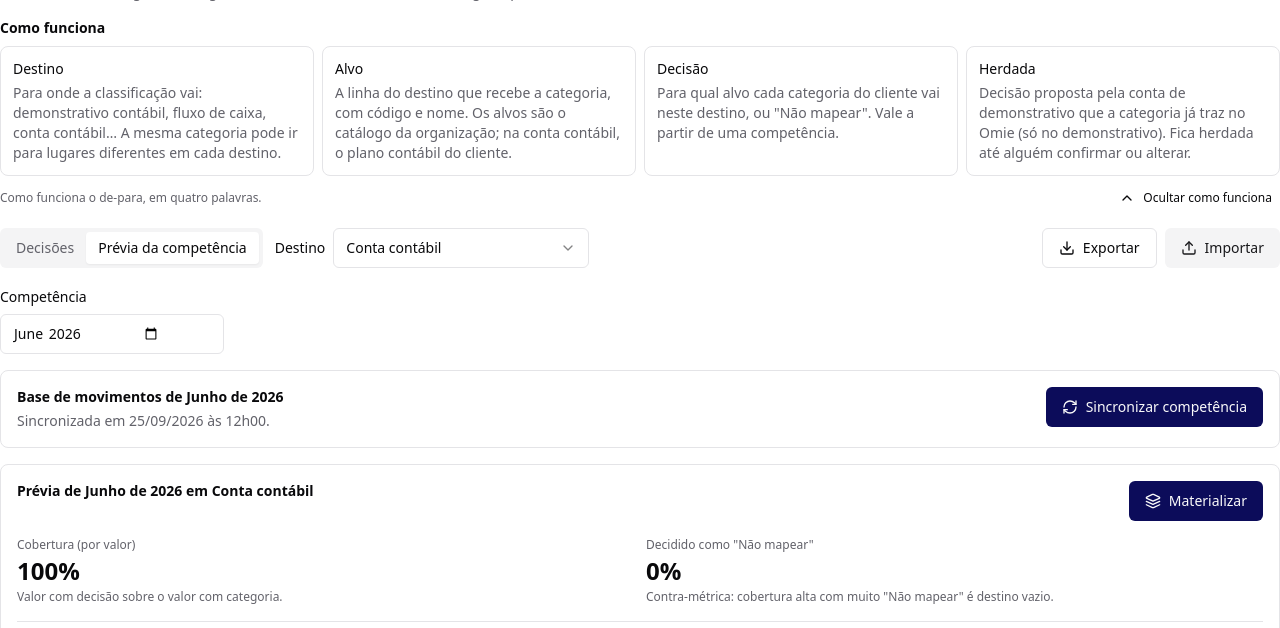
Test: avisos por perfil — só manda agir quem tem manage_client_accounting_chart › prévia: contas de origem pendentes › recusa 409 para admin: com o botão e o verbo
This screenshot has width=1280, height=628.
Step 1. Click the button "Materializar" → (1196, 501), box [1129, 481, 1263, 521]
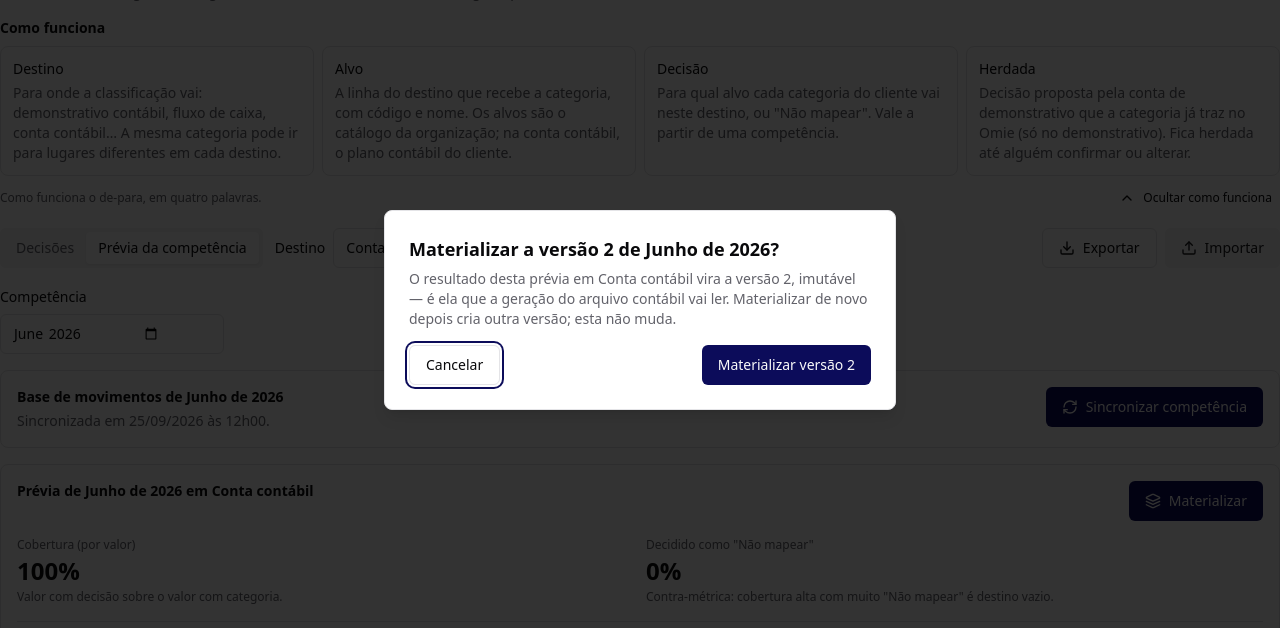
Step 2. Click the button "Materializar versão 2" → (786, 365), box [702, 345, 871, 385]
(page scrolled)
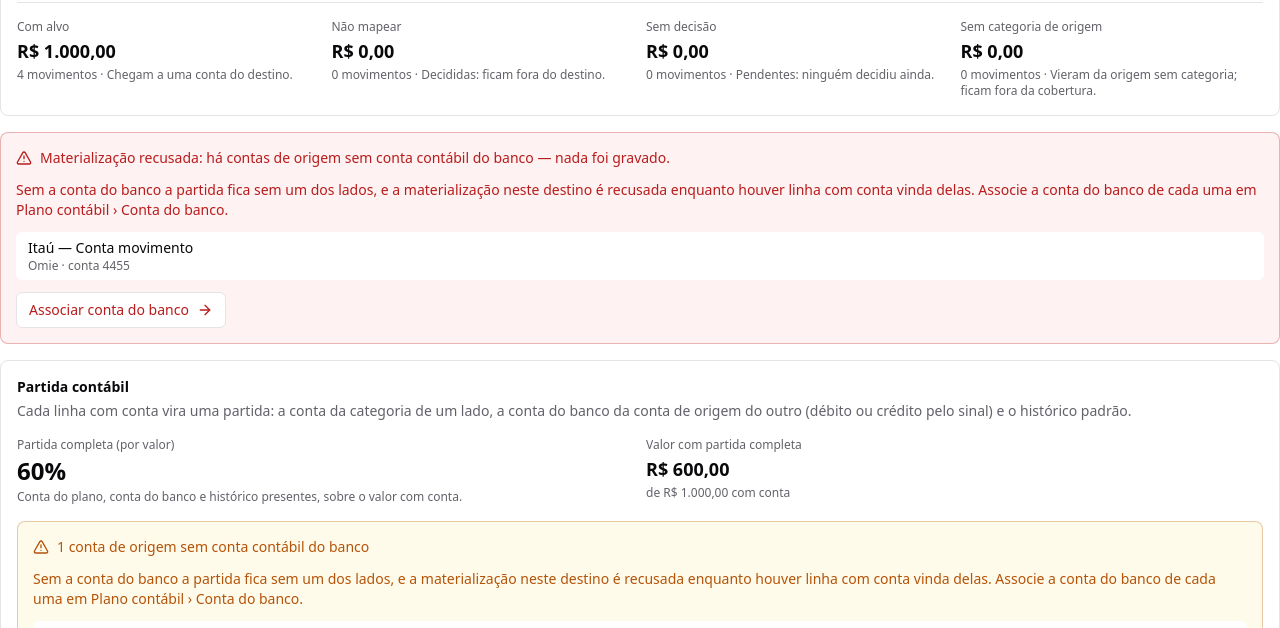
Expected: the message with test id "bank-pending-refusal" shows "Associe a conta do banco", [16, 180, 1257, 219]
Expected: the link "Associar conta do banco" is shown, [16, 292, 226, 328]
